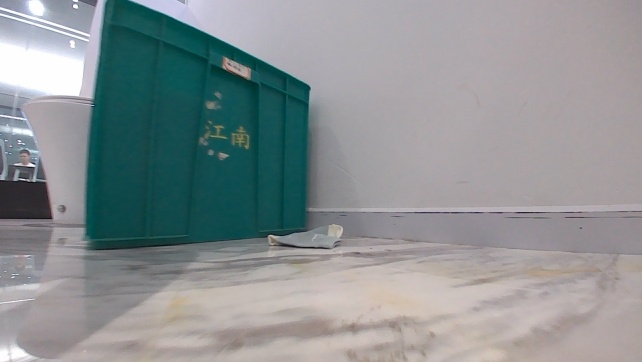socks: (267, 220, 347, 252)
toilet: (20, 92, 95, 230)
